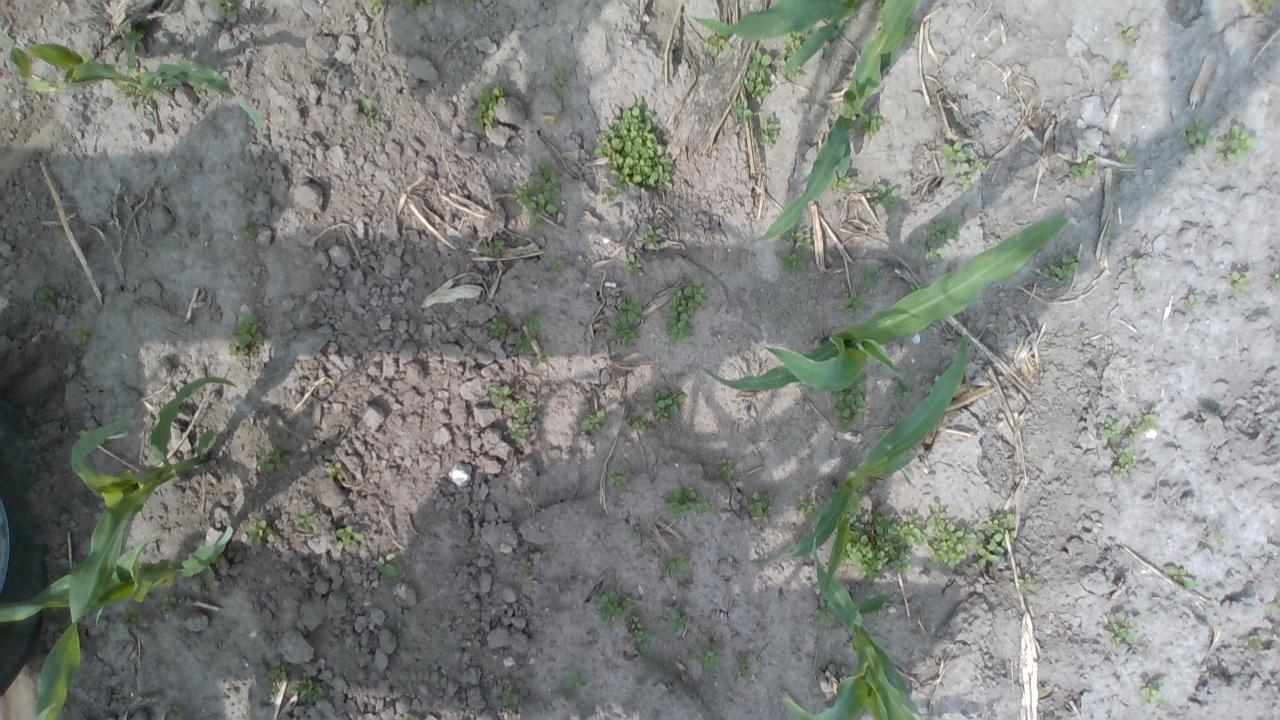Maize: (32, 378, 230, 720), (702, 214, 1068, 389), (754, 340, 974, 592), (749, 0, 923, 242), (0, 30, 265, 127), (780, 538, 920, 720), (0, 528, 236, 622), (692, 0, 866, 72)
Weeds: (592, 97, 674, 192), (839, 511, 929, 579), (929, 503, 1017, 566), (512, 160, 561, 224), (666, 275, 709, 344), (940, 141, 986, 193), (592, 590, 638, 632), (664, 484, 714, 521), (614, 294, 646, 350), (472, 81, 506, 131), (835, 379, 866, 431), (1218, 125, 1256, 167), (228, 314, 264, 358), (746, 50, 771, 103), (1182, 118, 1218, 154), (1106, 610, 1140, 648), (779, 30, 812, 67), (516, 309, 544, 352), (296, 672, 332, 704), (1046, 254, 1082, 284), (560, 671, 592, 704), (653, 386, 687, 417), (629, 616, 656, 654), (261, 656, 287, 695), (114, 80, 145, 112), (690, 640, 721, 672), (1112, 446, 1138, 484), (744, 490, 776, 520), (923, 216, 961, 241), (704, 30, 736, 58), (1131, 409, 1160, 438), (1164, 565, 1198, 589), (660, 551, 689, 579), (118, 604, 146, 632), (1069, 150, 1097, 178), (578, 408, 608, 434), (482, 312, 512, 338), (256, 447, 284, 474), (606, 466, 632, 495), (872, 183, 898, 211), (666, 608, 692, 636), (370, 554, 400, 578), (754, 119, 779, 146), (782, 229, 814, 250), (842, 288, 865, 317), (550, 65, 570, 97), (1140, 682, 1166, 706), (1104, 416, 1126, 444), (780, 252, 808, 274), (642, 224, 664, 252), (488, 384, 513, 408), (859, 110, 882, 136), (502, 686, 524, 713), (816, 596, 836, 624), (514, 399, 538, 422), (542, 255, 566, 278), (70, 324, 95, 346), (335, 526, 362, 546), (34, 286, 56, 310), (798, 498, 822, 520), (1230, 270, 1250, 296), (714, 456, 734, 481), (247, 519, 266, 545), (1114, 22, 1136, 44), (215, 0, 239, 20), (896, 375, 914, 401), (1254, 0, 1280, 18), (732, 659, 754, 680), (902, 16, 919, 43), (160, 594, 179, 618), (362, 98, 377, 128), (478, 239, 504, 256), (734, 100, 754, 121), (507, 422, 528, 442), (625, 255, 641, 280), (324, 462, 344, 481), (862, 268, 880, 289), (1016, 574, 1037, 592), (832, 174, 852, 192), (598, 186, 620, 201), (1246, 634, 1264, 652), (1111, 64, 1129, 82), (1115, 148, 1138, 162), (238, 222, 256, 239), (632, 412, 650, 429), (531, 351, 551, 366), (927, 247, 944, 264), (1184, 292, 1198, 312), (408, 0, 434, 10), (94, 608, 109, 625), (384, 634, 404, 646), (996, 320, 1011, 336), (786, 66, 801, 82), (1123, 258, 1144, 269), (298, 510, 314, 524), (368, 0, 384, 13), (517, 567, 528, 584), (1213, 530, 1226, 544), (1133, 286, 1146, 300), (1268, 599, 1280, 614), (214, 554, 226, 568), (192, 82, 208, 92), (629, 531, 641, 543), (1271, 272, 1280, 288), (908, 283, 923, 292), (871, 0, 886, 9), (402, 711, 416, 720), (208, 580, 220, 590), (146, 90, 158, 100), (966, 338, 974, 352), (1038, 687, 1048, 695)
